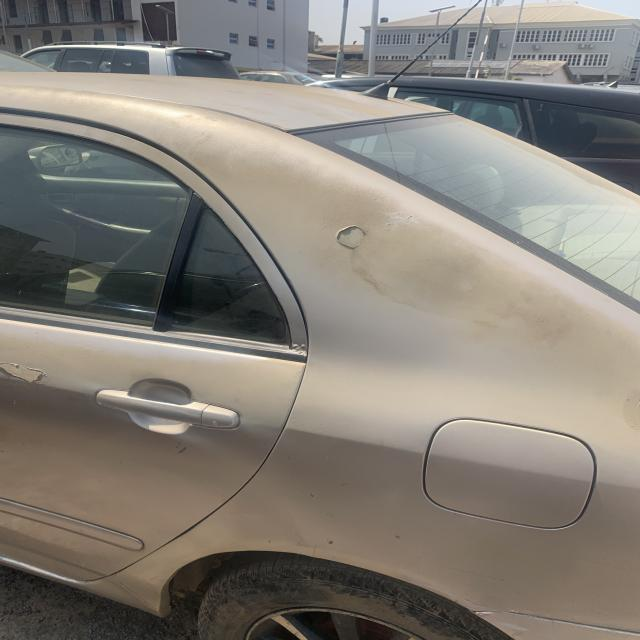paint-chip: (314, 207, 381, 263), (0, 358, 63, 393)
